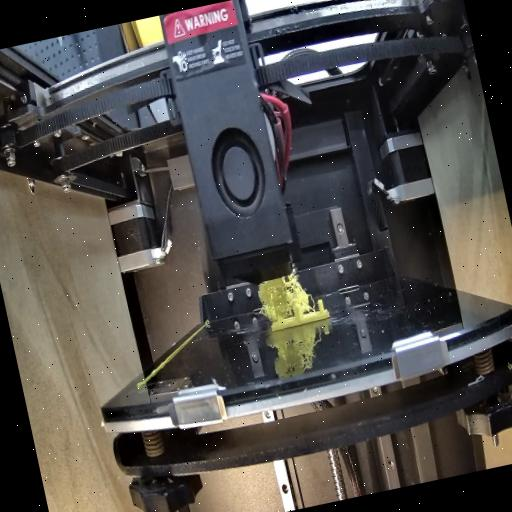spaghetti: (252, 268, 314, 322)
